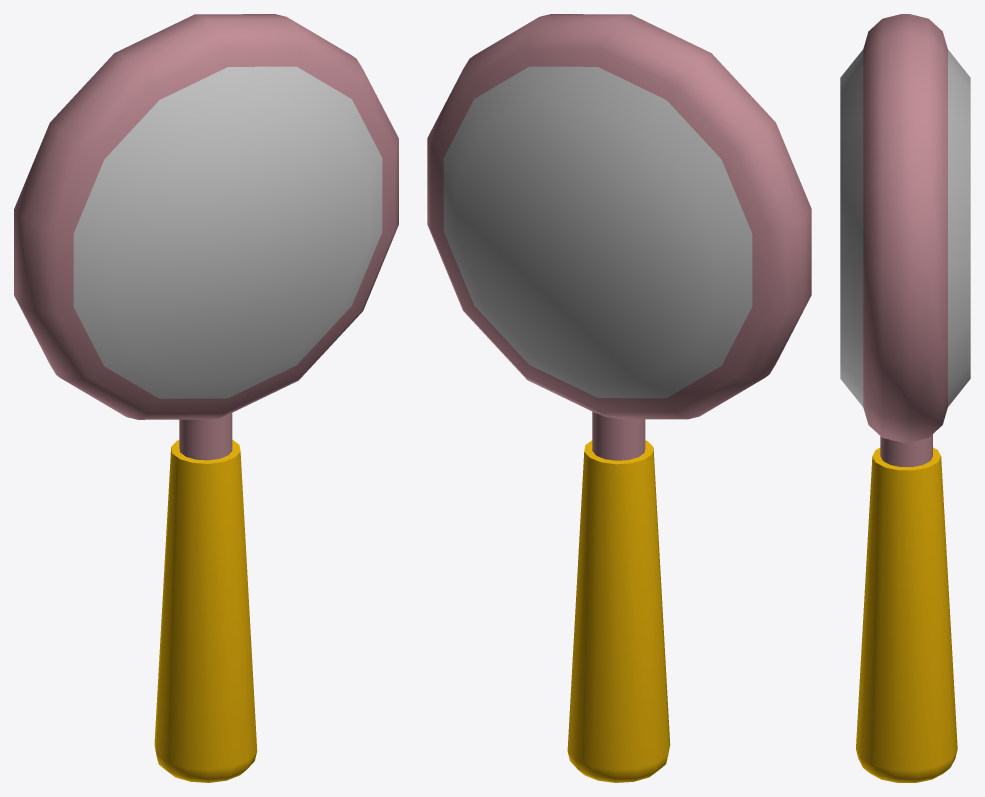
The model's file is Magnifying Glass_2.fbx.
3 views of the same model, side by side, from view 1: azimuth 30°, elevation 25°; view 2: azimuth 150°, elevation 25°; view 3: azimuth 270°, elevation 25° (orthographic). The views are drawn at different scales.
Visible parts, largest first — view 1: Magnifying Glass_2; view 2: Magnifying Glass_2; view 3: Magnifying Glass_2.
Part boxes in pixels (box(x1,y1,x2,y2)): Magnifying Glass_2: box(14, 14, 398, 782); Magnifying Glass_2: box(427, 14, 811, 782); Magnifying Glass_2: box(840, 14, 970, 782).
Size of the model in its own units: 0.1281 by 0.2487 by 0.0399.
